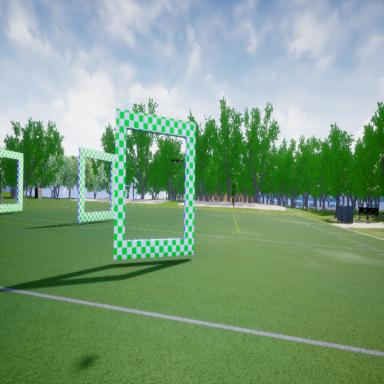gate: (113, 103, 196, 272)
